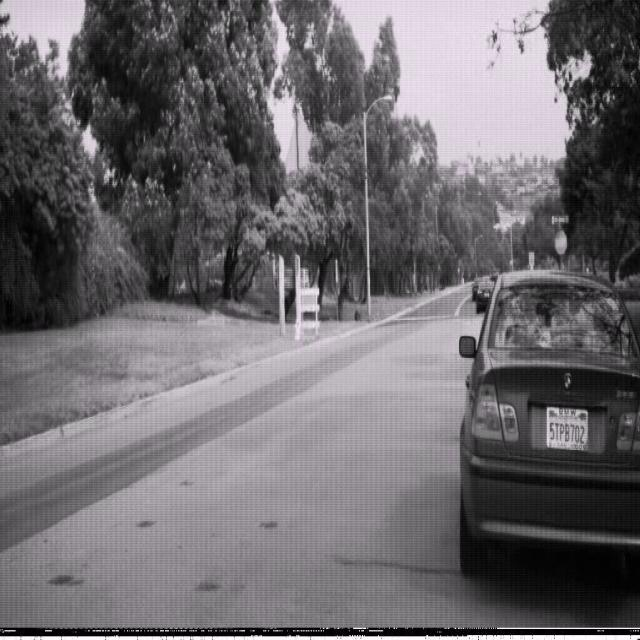stop: (553, 228, 568, 256)
